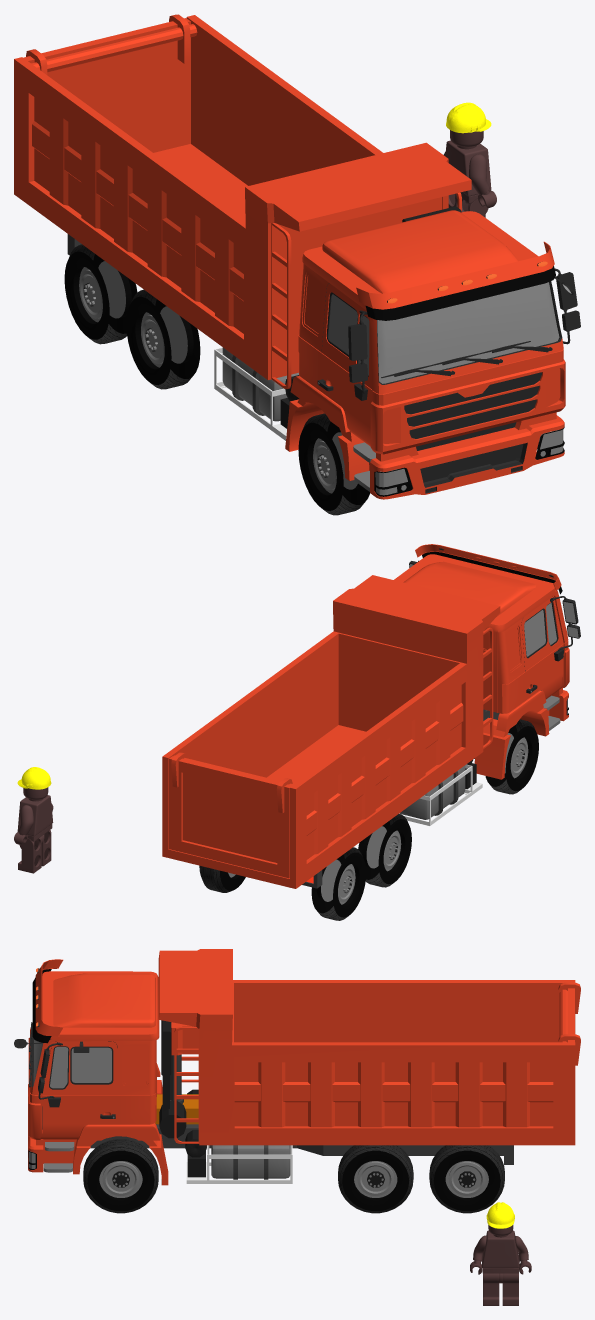
3 renders of one model, top to bottom at view 1: azimuth 30°, elevation 25°; view 2: azimuth 150°, elevation 25°; view 3: azimuth 270°, elevation 25°, orthographic. The views are drawn at different scales.
Visible parts, largest first — view 1: 车, 工人; view 2: 车, 工人; view 3: 车, 工人.
Boxes of the visible parts, x1,y1,x2,y2 form: 车: [14, 14, 580, 515]; 工人: [443, 102, 496, 217]; 车: [162, 544, 580, 920]; 工人: [14, 767, 53, 873]; 车: [14, 949, 580, 1213]; 工人: [470, 1202, 531, 1305].
Size of what is drawn, in the model's own units: 10.94 by 6.51 by 16.17.
23 materials, 1 textured.
